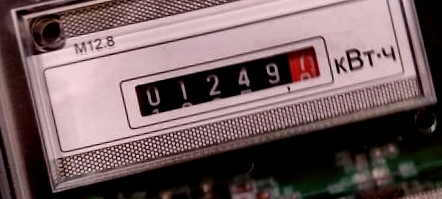0: (140, 79, 162, 107)
1: (172, 75, 189, 101)
2: (201, 69, 224, 97)
4: (233, 60, 253, 89)
7: (291, 47, 309, 72)
9: (261, 58, 282, 84)
screen: (110, 35, 349, 133)
